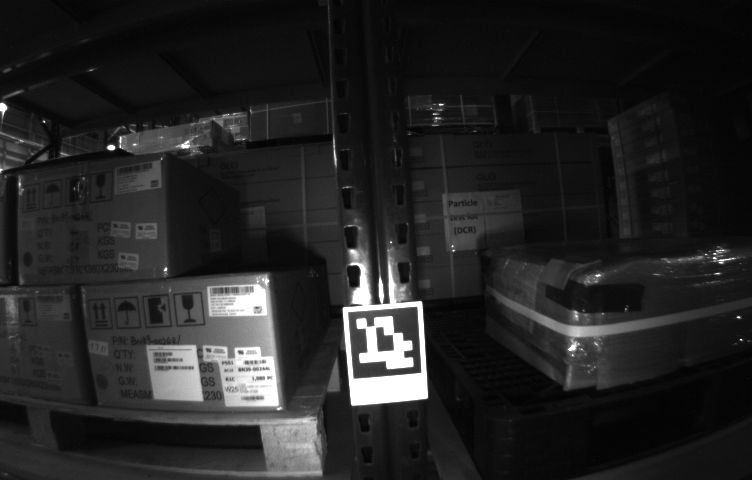True Barcode: (220, 357, 277, 408)
